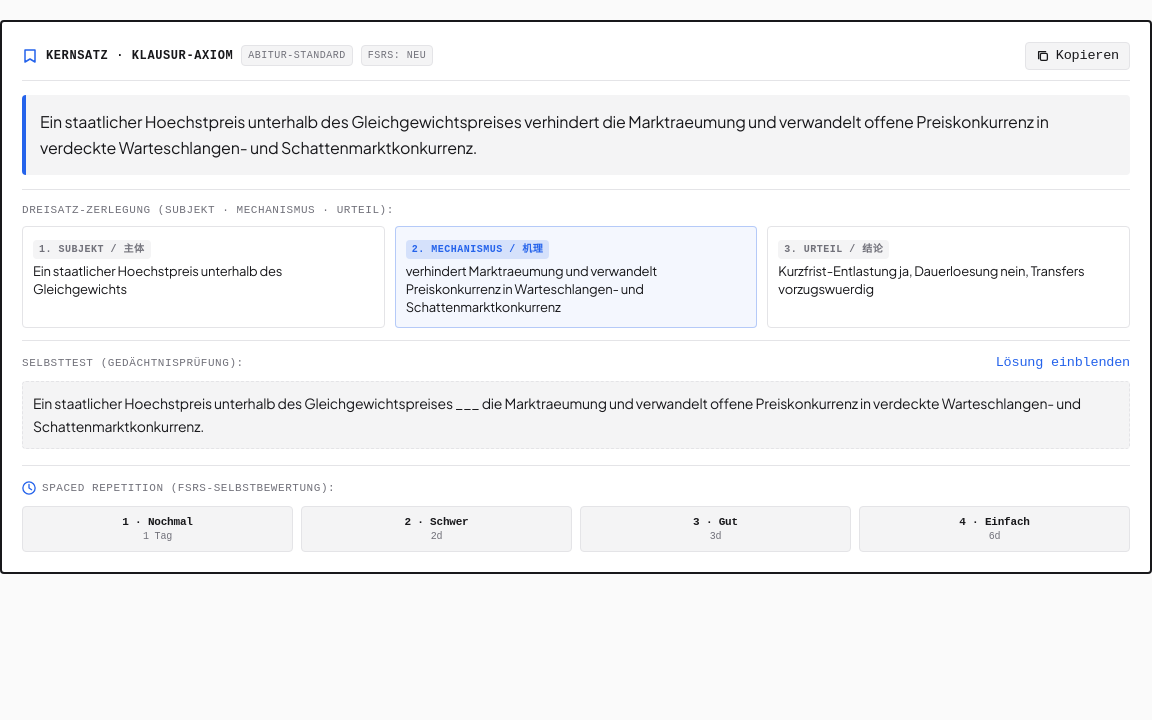
v5 Didactic Components & Parser Standalone Tests › KernsatzCard component tests › renders FSRS Spaced Repetition controls and updates card review state upon rating
Expected: the text "Spaced Repetition (FSRS-Selbstbewertung):" is shown, [42,480,335,496]
Expected: the text "FSRS: Neu" is shown, [361,46,433,66]
Click "Gut" (Rating 3)
Click the button with aria-label "FSRS Rating 3 Gut" at [716, 529], box [580,506,851,552]
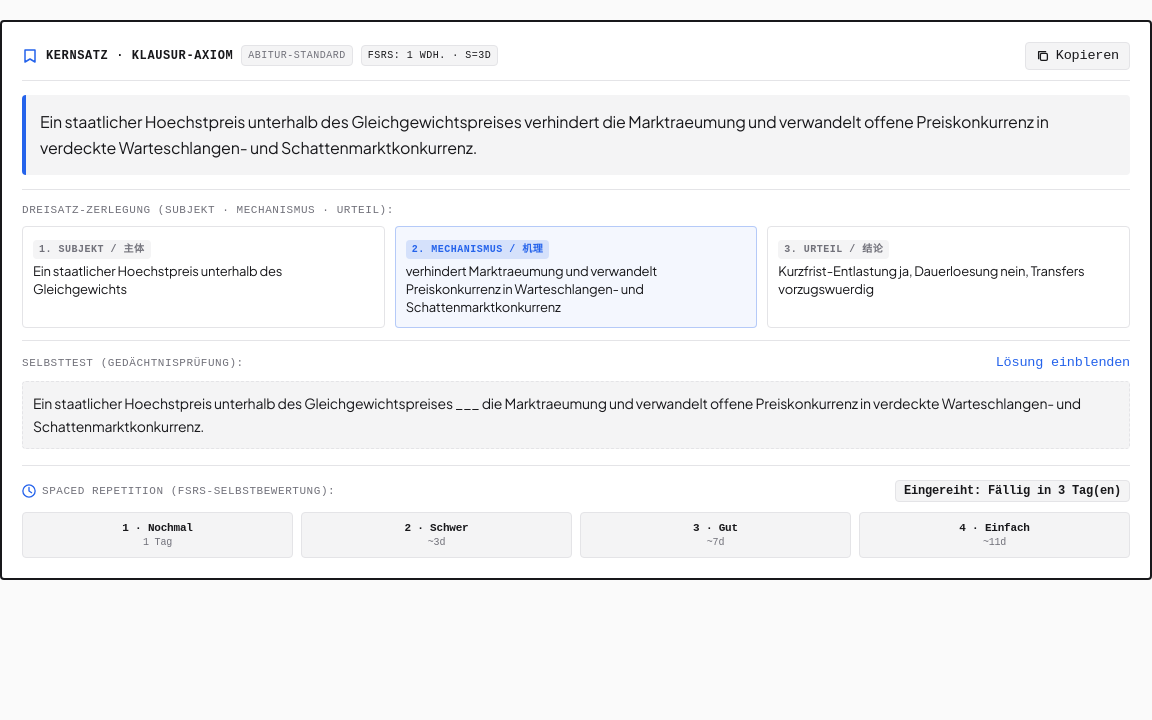
Expected: the text "Eingereiht: Fällig in 3 Tag(en)" is shown, [895,480,1130,502]
Expected: the text "FSRS: 1 Wdh. · S=3d" is shown, [361,46,498,66]
